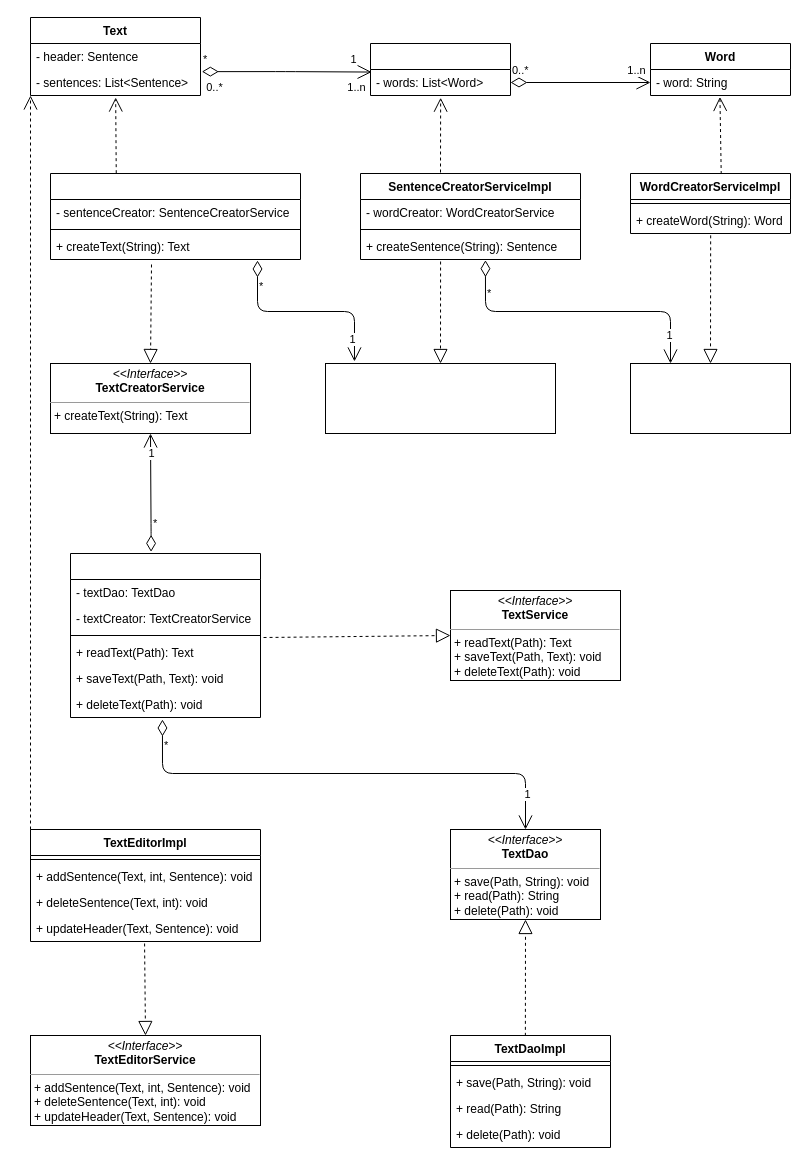
The diagram is 808 pixels wide and 1168 high, and some of its shapes have lost their labels. Here are the shapes that lost their labels. From the top down, the box of each, then its label:
(370, 42, 510, 96): Sentence
(50, 172, 300, 260): TextCreatorServiceImpl
(324, 362, 556, 434): <<Interface>> SentenceCreatorService + createSentence(String): Sentence
(630, 362, 790, 434): <<Interface>> WordCreatorService + createWord(String): Word
(70, 552, 260, 718): TextServiceImpl
